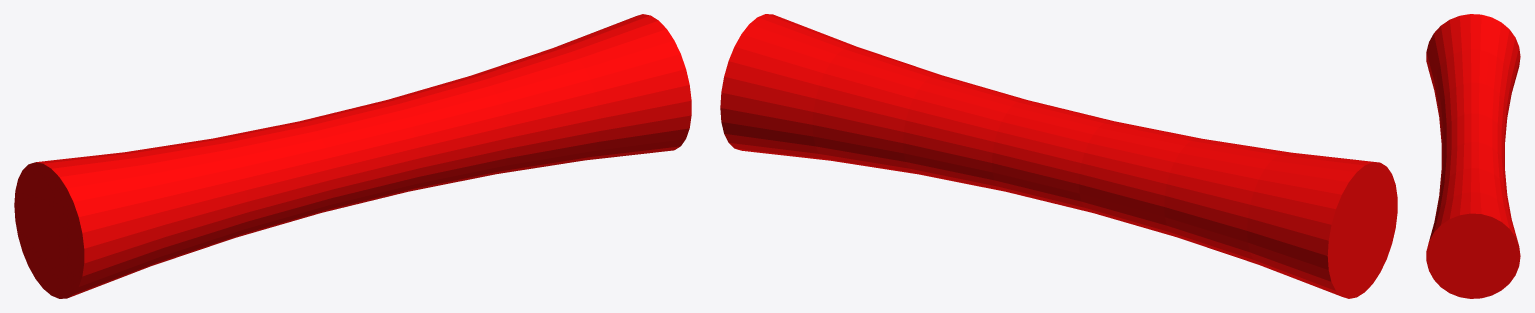
The model's file is Roth_8.gltf.
3 views of the same model, side by side, from view 1: azimuth 30°, elevation 25°; view 2: azimuth 150°, elevation 25°; view 3: azimuth 270°, elevation 25° (orthographic). The views are drawn at different scales.
Visible parts, largest first — view 1: Rolik; view 2: Rolik; view 3: Rolik.
Part boxes in pixels (x1,y1,x2,y2): Rolik: (14, 14, 691, 298); Rolik: (720, 14, 1397, 298); Rolik: (1426, 14, 1520, 298).
Size of the model in its own units: 0.15 by 0.0299 by 0.0299.
